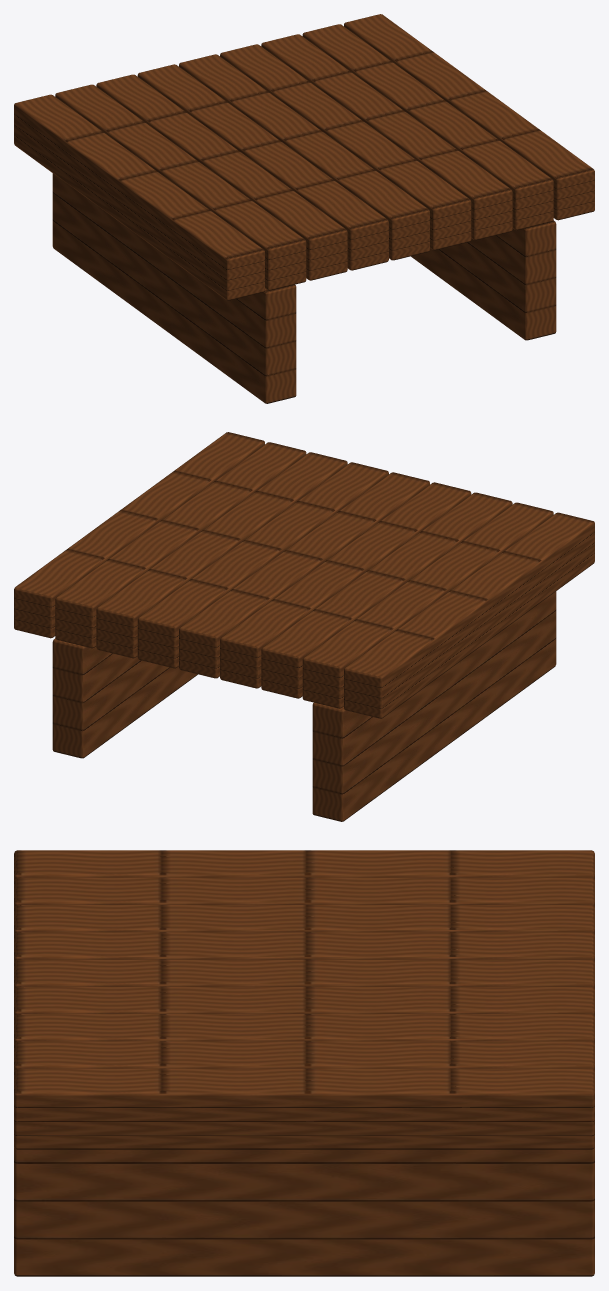
The model's file is prehistoric-survivor-settlement-split-log-walkway-4b9c5855__23181.glb.
3 views of the same model, one above another, from view 1: azimuth 30°, elevation 25°; view 2: azimuth 150°, elevation 25°; view 3: azimuth 270°, elevation 25° (orthographic). The views are drawn at different scales.
Visible parts, largest first — view 1: split-log-walkway; view 2: split-log-walkway; view 3: split-log-walkway.
Boxes of the visible parts, bbox=[...] form: split-log-walkway: bbox=[14, 14, 594, 403]; split-log-walkway: bbox=[14, 432, 594, 821]; split-log-walkway: bbox=[14, 850, 594, 1276].
Size of the model in its own units: 1.99 by 0.7999 by 2.
1 material, 1 textured.
